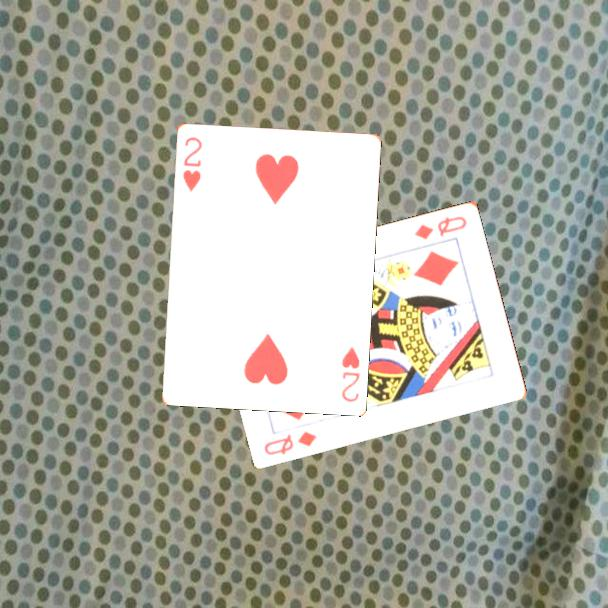d12: (261, 427, 320, 458), (411, 212, 470, 242)
h02: (179, 133, 204, 194), (338, 343, 362, 405)
